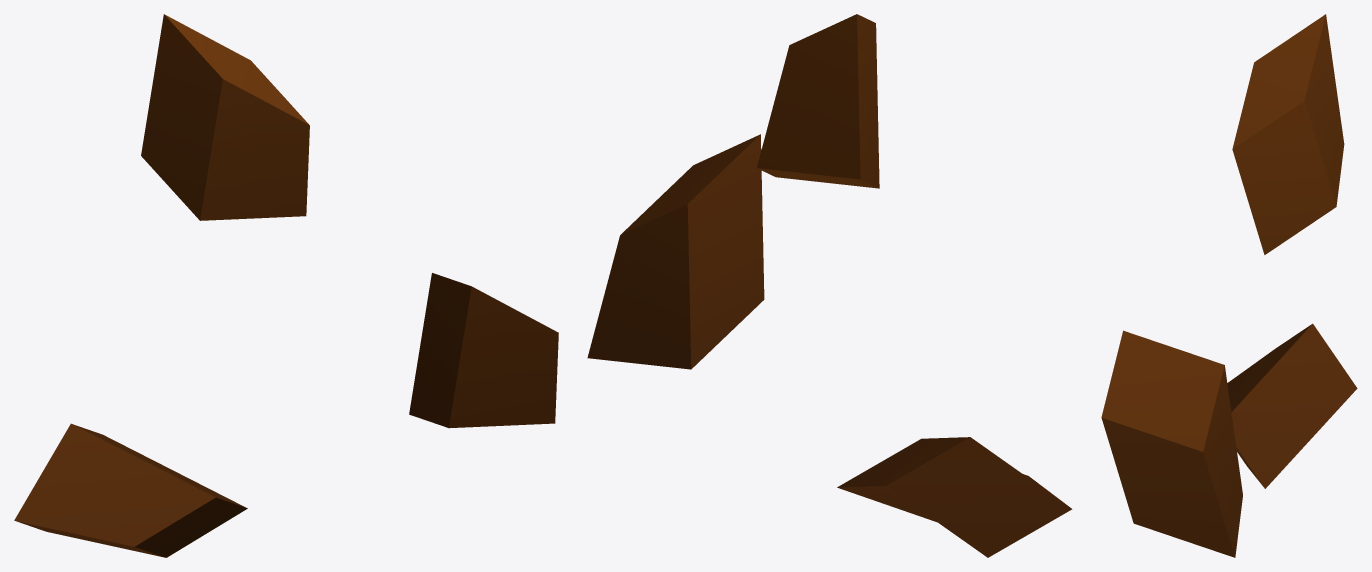
Rendered from DestructableRealParticle.fbx.
3 views of the same model, side by side, from view 1: azimuth 30°, elevation 25°; view 2: azimuth 150°, elevation 25°; view 3: azimuth 270°, elevation 25° (orthographic). The views are drawn at different scales.
Visible parts, largest first — view 1: Particle; view 2: Particle; view 3: Particle.
Boxes of the visible parts, <box> form: Particle: <box>14,14,558,557</box>; Particle: <box>587,14,1072,557</box>; Particle: <box>1101,14,1357,557</box>.
Size of the model in its own units: 0.5608 by 0.5624 by 0.2775.
